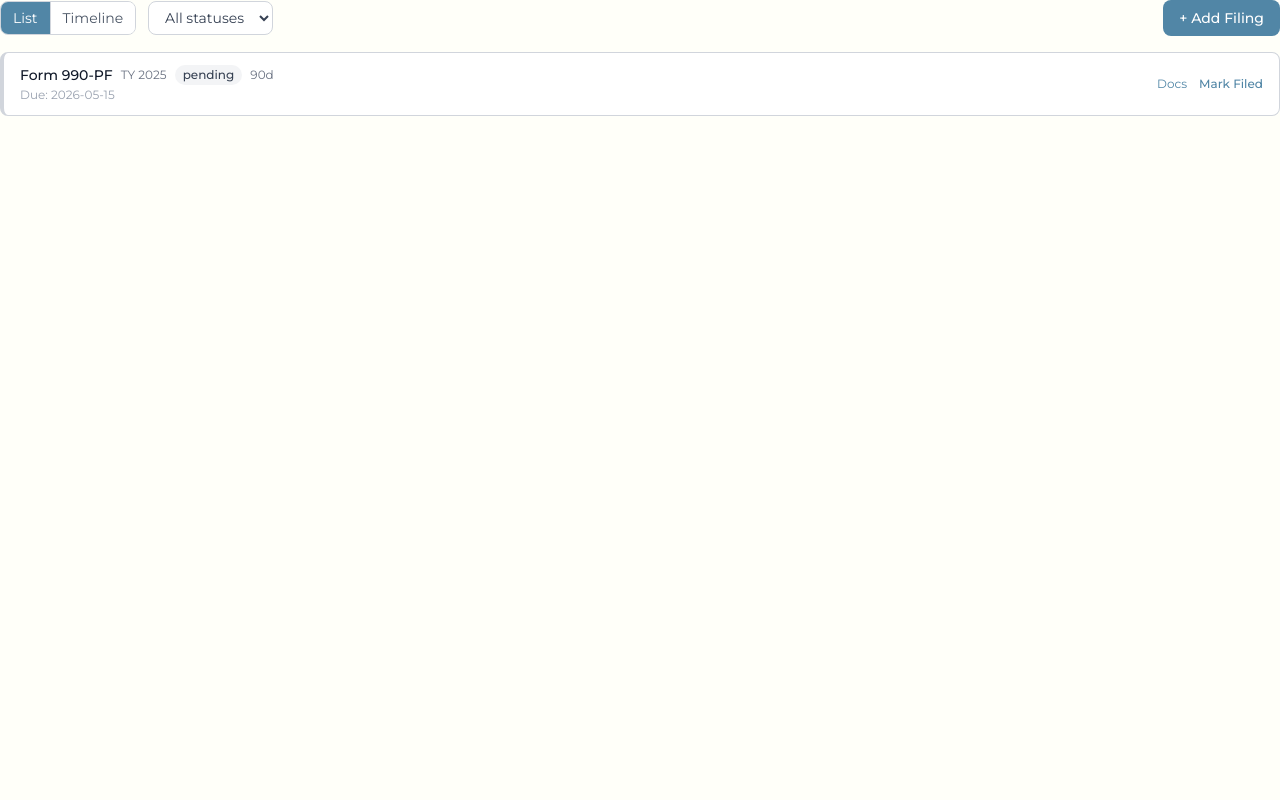
Test case: FilingCalendar › closes Mark Filed modal on Cancel
Click the button "Mark Filed". click: (1231, 84)
box: x1=1199 y1=76 x2=1263 y2=92
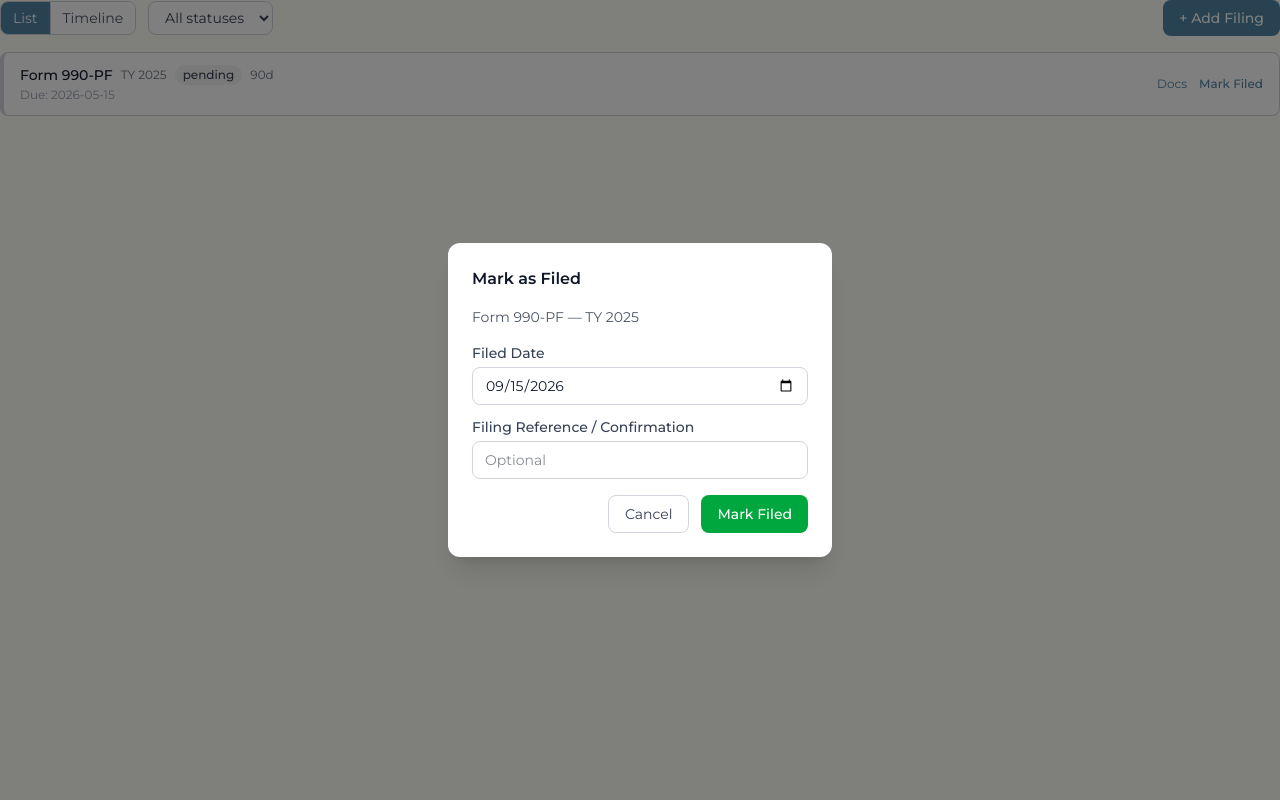
Click the button "Cancel". click: (649, 514)
box: x1=608 y1=495 x2=689 y2=533
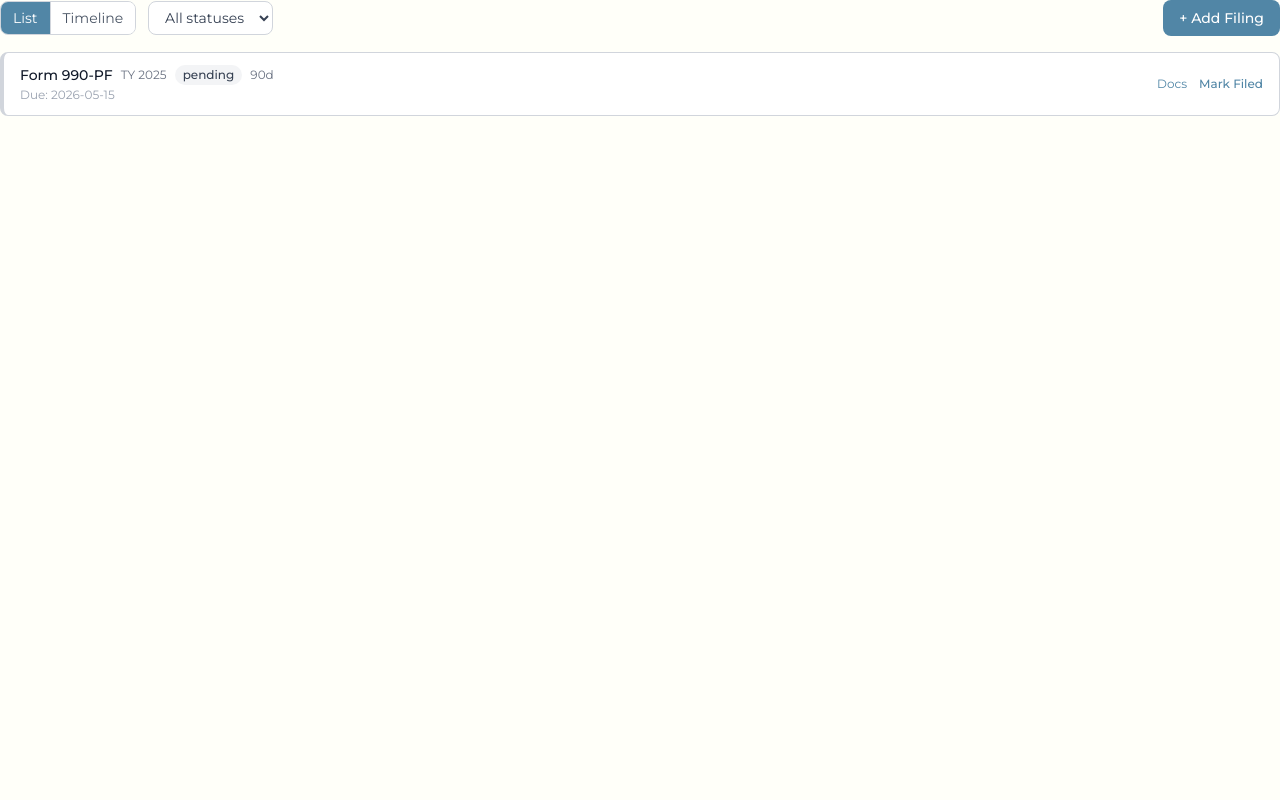
Expected: the heading "Mark as Filed" is gone
